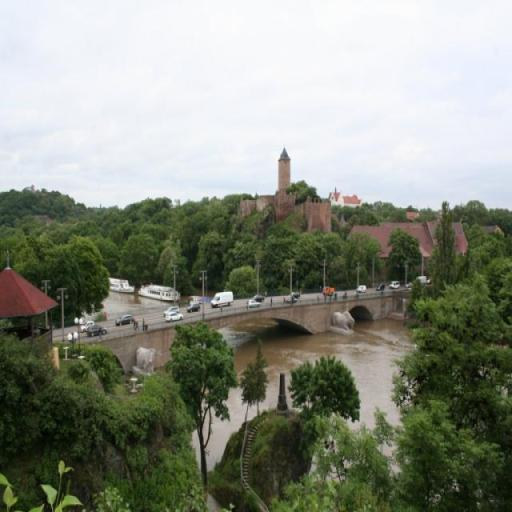flood: (221, 319, 414, 426), (209, 390, 246, 465), (104, 293, 170, 319)
house: (346, 220, 468, 264), (1, 262, 59, 346), (328, 188, 362, 206), (483, 224, 502, 232)
